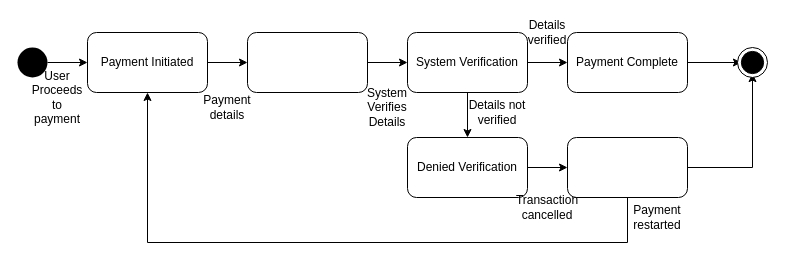
Some shapes in this 785 by 268 pixel diagram are drawn without their labels. Here are the shapes that lost their labels. From the top down, the centre of each, then its label:
At (307,62): "Payment Details Entered".
At (627,167): "Payment Cancelled".
